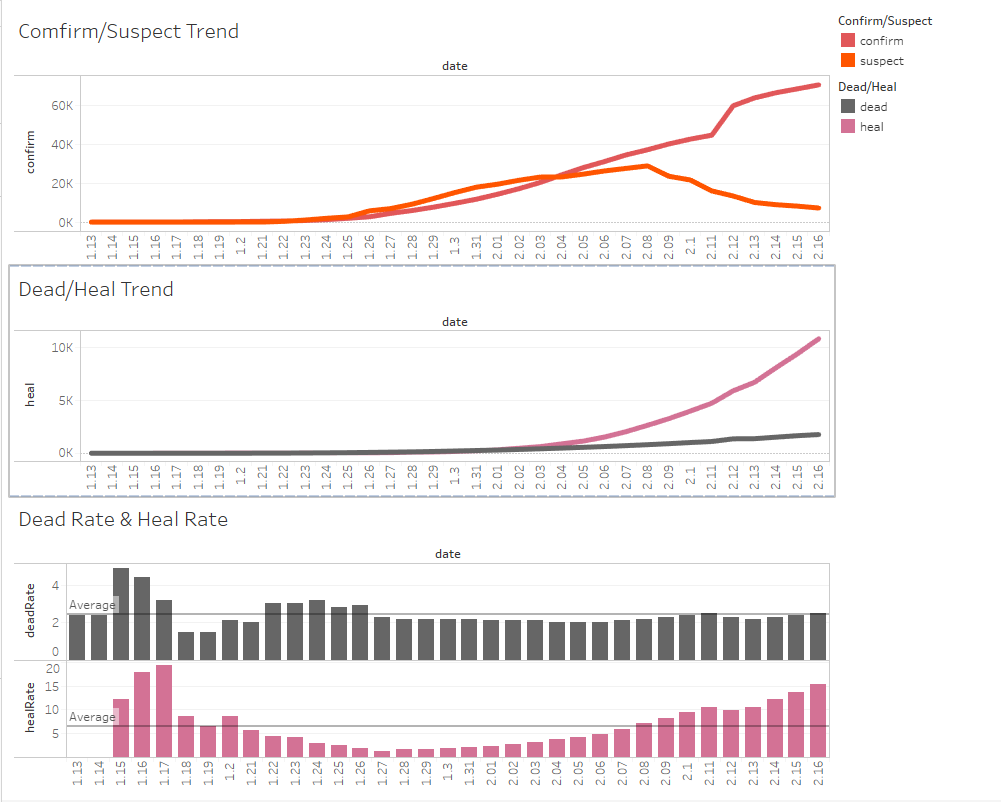

Layout of this report page (visuals, bound fields, positions):
{"tool":"tableau","page":{"name":"Dashboard 1","canvas":[1000,800],"ordinal":0},"visuals":[{"type":"worksheet","title":"Comfirm/Suspect Trend","mark":"Line","rows":["confirm","suspect"],"cols":["date"],"box":[8,8,824,272]},{"type":"legend","title":"Comfirm/Suspect Trend","param":"[federated.0cwkgh20o3mhge16olahu0zebhv3].[:Measure Names]","box":[832,8,160,66]},{"type":"legend","title":"Dead/Heal Trend","param":"[federated.0cwkgh20o3mhge16olahu0zebhv3].[:Measure Names]","box":[832,74,160,66]},{"type":"worksheet","title":"Dead/Heal Trend","mark":"Line","rows":["heal","dead"],"cols":["date"],"box":[8,280,824,234]},{"type":"worksheet","title":"Dead/Heal Rate","mark":"Automatic","rows":["deadRate","healRate"],"cols":["date"],"box":[8,514,824,278]}]}

Visuals, with their boxes in screenshot pixels (x1, y1, x2, y2), scaled from the page's 1000x800 canvas onto the 1001x802 screenshot:
"Comfirm/Suspect Trend" worksheet (Line marks): x1=8 y1=8 x2=833 y2=281
"Comfirm/Suspect Trend" legend: x1=833 y1=8 x2=993 y2=74
"Dead/Heal Trend" legend: x1=833 y1=74 x2=993 y2=140
"Dead/Heal Trend" worksheet (Line marks): x1=8 y1=281 x2=833 y2=515
"Dead/Heal Rate" worksheet: x1=8 y1=515 x2=833 y2=794
